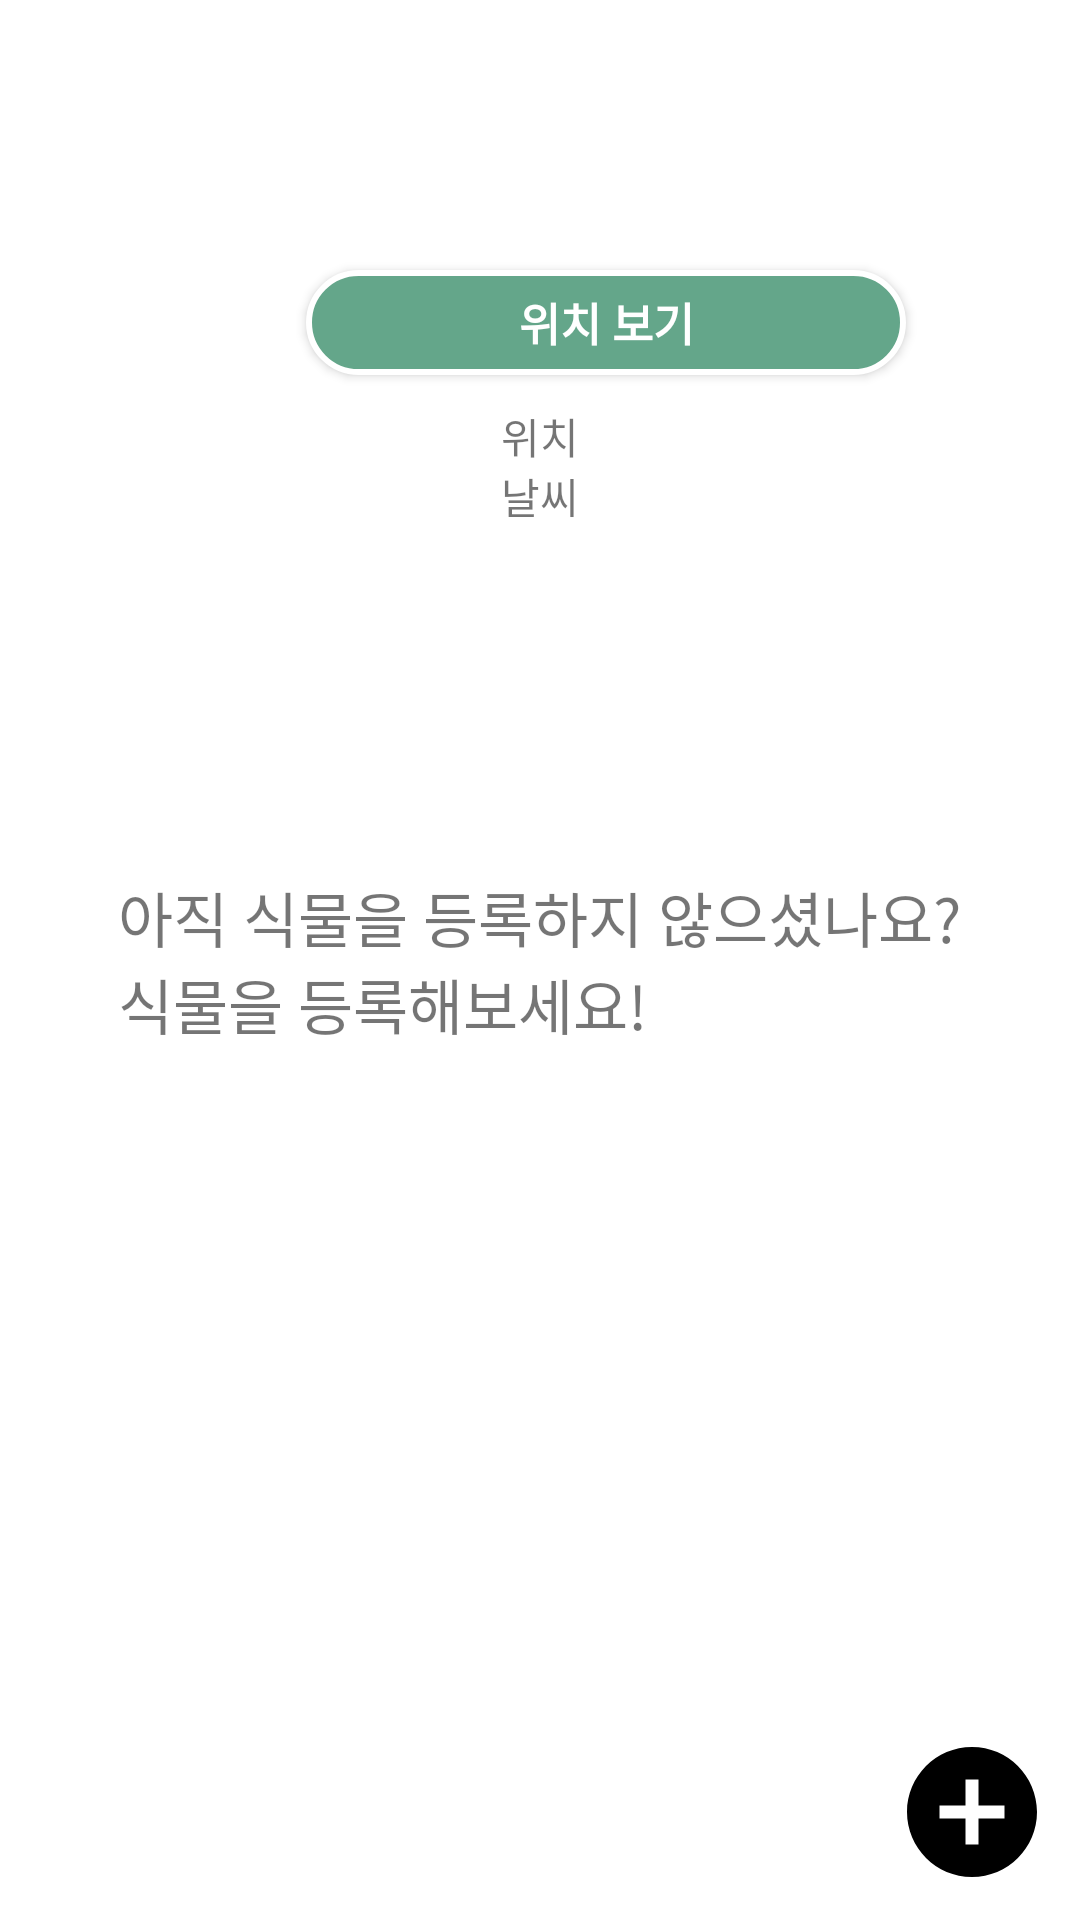

Screen size 1080x1920. Icon name, then its box in pixels as detection(x1, y1, x2, y2):
add circle: detection(907, 1747, 1037, 1877)
